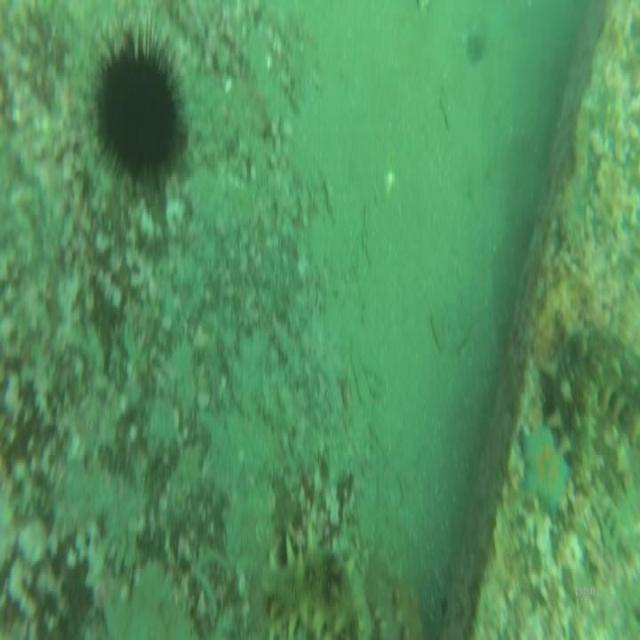echinus: (91, 35, 189, 199)
holothurian: (545, 322, 640, 474), (264, 528, 362, 640), (357, 545, 423, 637)
starfish: (518, 424, 566, 518)
